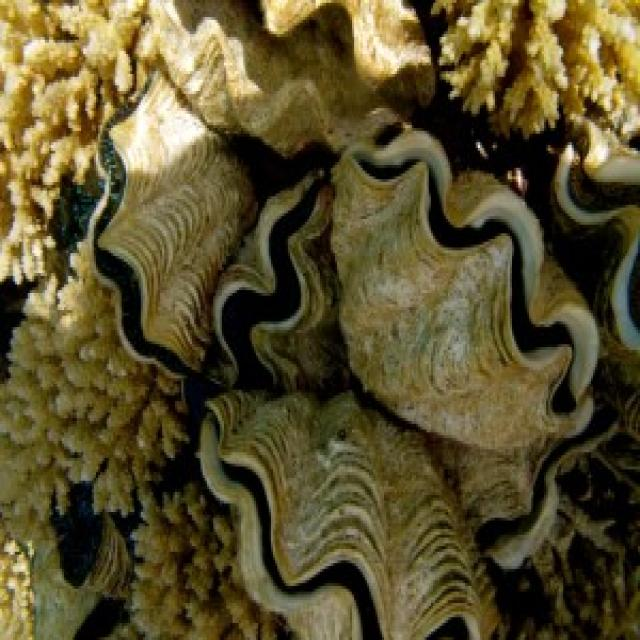Healthy: (332, 126, 596, 448), (202, 391, 494, 638), (1, 251, 187, 516), (97, 78, 255, 371), (155, 1, 434, 155), (1, 1, 146, 280), (216, 169, 342, 388), (436, 1, 639, 135), (542, 103, 640, 365), (133, 485, 263, 635)
